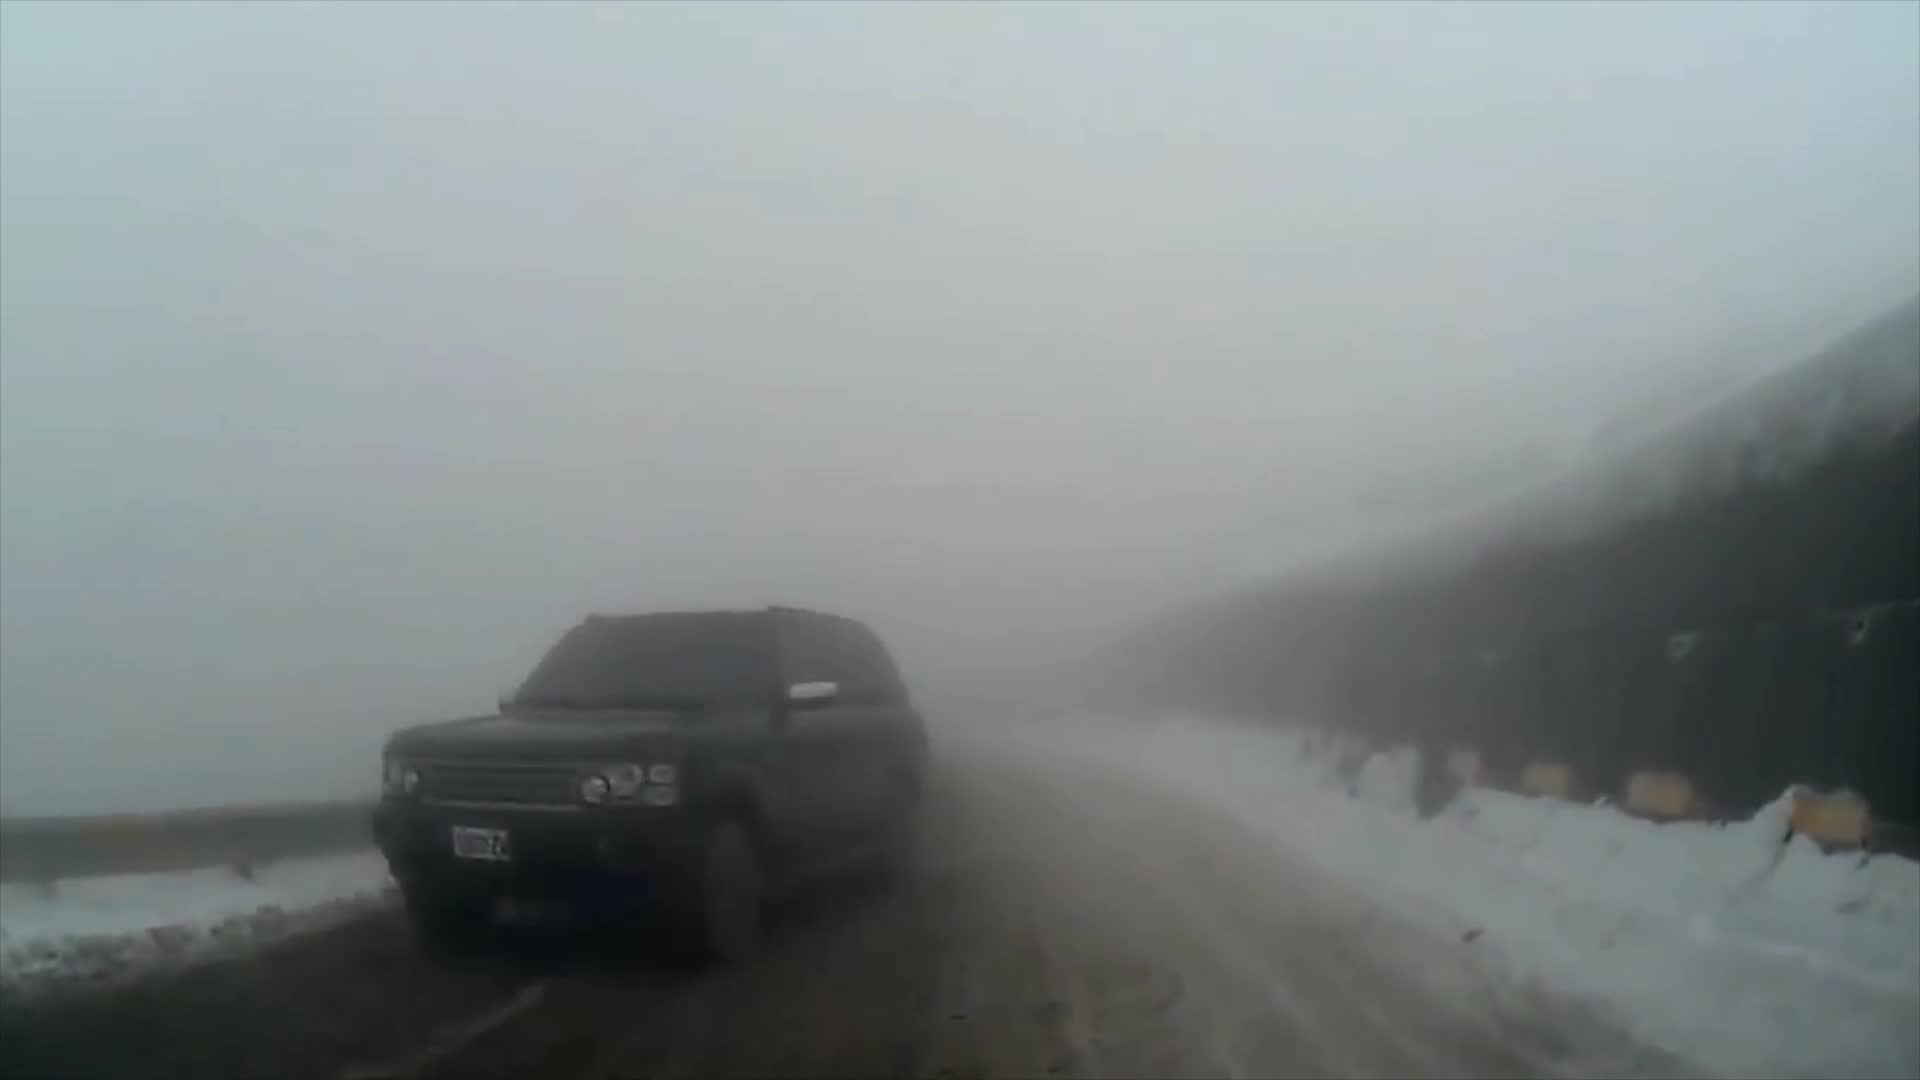vehicle: (367, 604, 948, 957)
